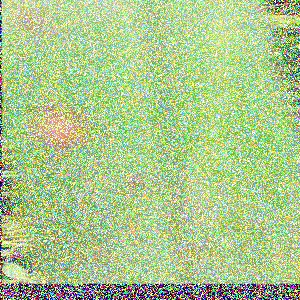Brown_Spot: (11, 95, 99, 161)
